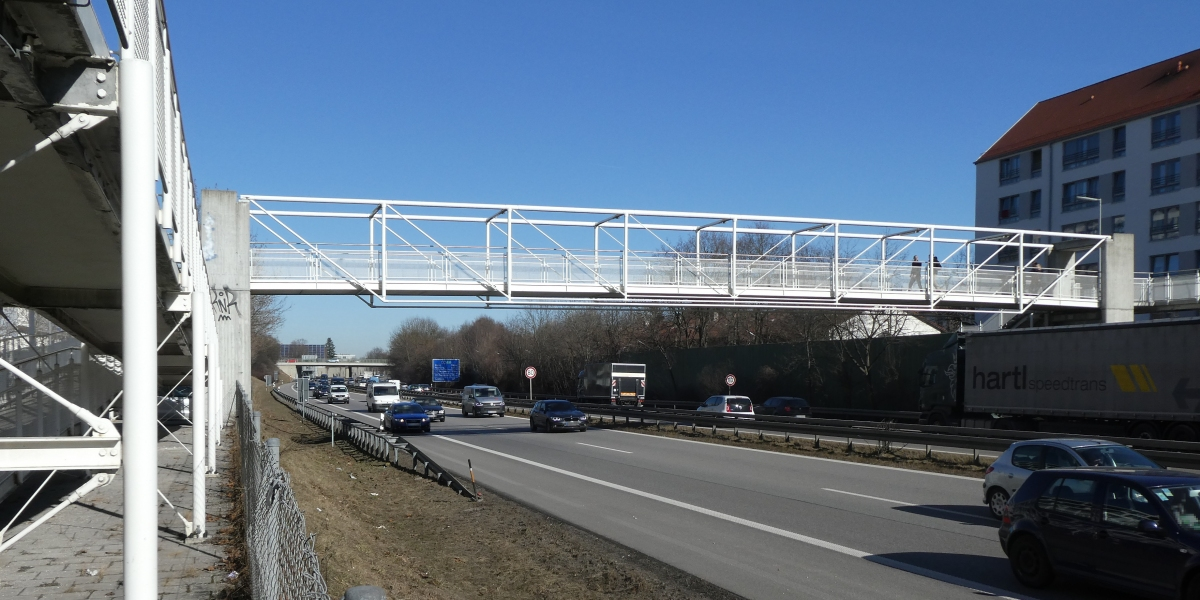bridge: (197, 188, 1134, 325)
